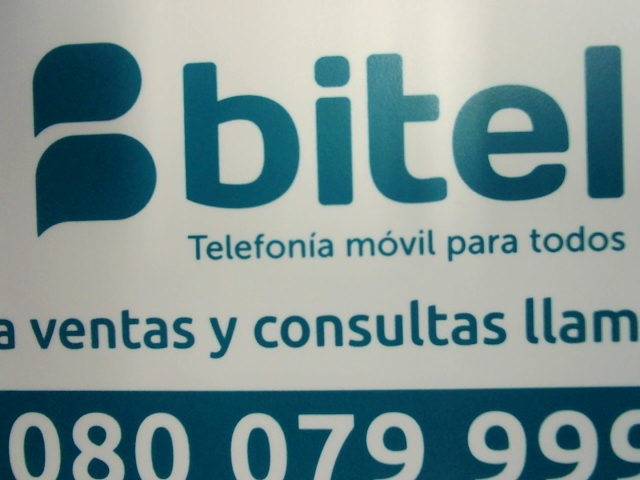BE_bitel: (20, 33, 638, 229)
